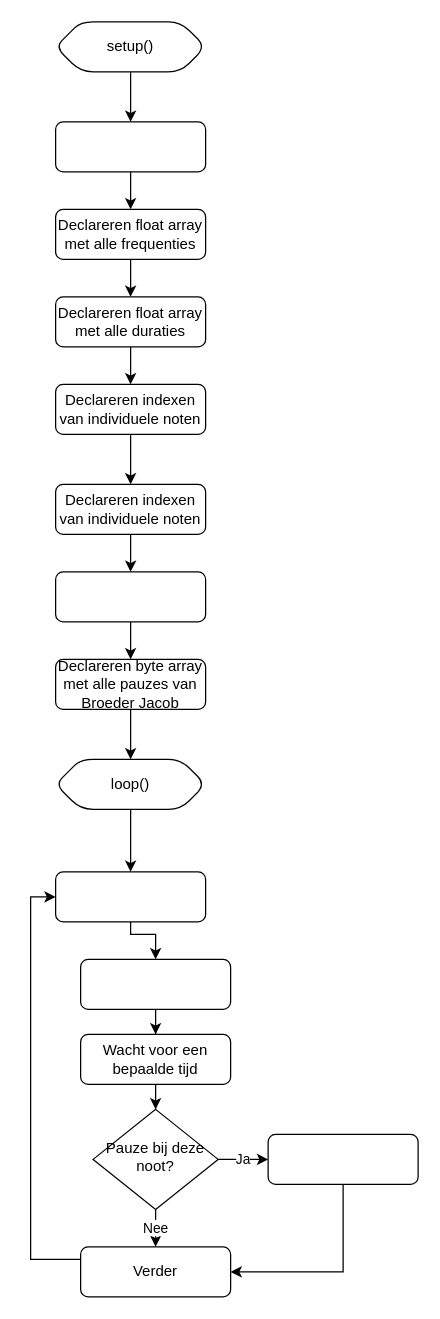
Image size: 440x1319. Some labels were removed from this diagram. Here are the shapes that lost their labels. From the top down, the centre of each, then its label:
[130,146]: Declareren luisdprekerpin
[130,596]: Declareren byte array met alle noten van Broeder Jacob
[130,896]: Voor iedere noot in allay met liedje
[155,983]: Speel die specifieke noot af
[342,1158]: Pauzeer 100ms
